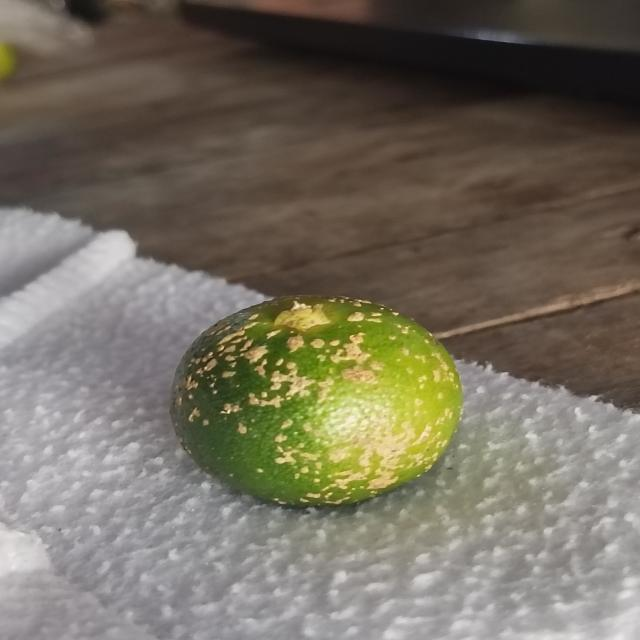scab: (172, 295, 466, 509)
